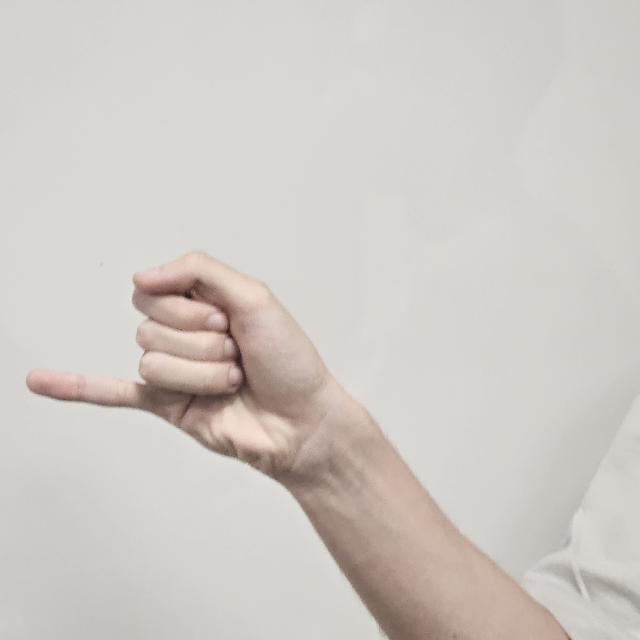Esquerda: (23, 232, 350, 500)
